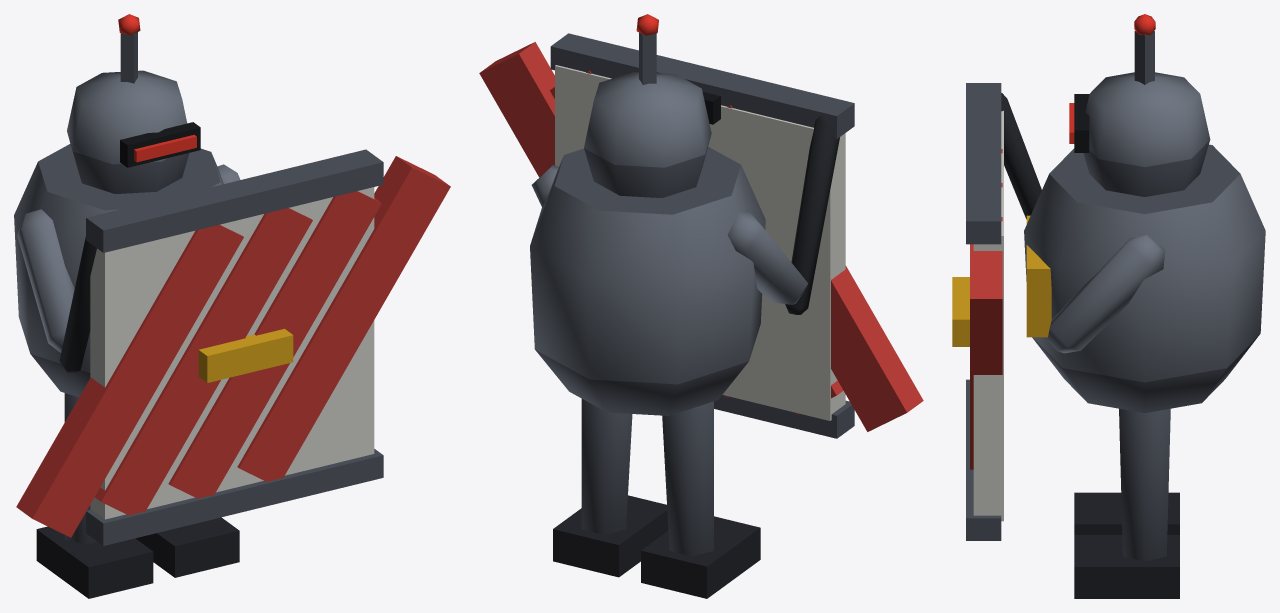
The model's file is e_maschinen_schildbot.glb.
The picture shows the model from 3 angles, left to right: view 1: azimuth 30°, elevation 25°; view 2: azimuth 150°, elevation 25°; view 3: azimuth 270°, elevation 25°; orthographic projection. The views are drawn at different scales.
Visible parts, largest first — view 1: body; view 2: body; view 3: body.
Part boxes in pixels (x1,y1,x2,y2): body: [14, 14, 450, 598]; body: [479, 14, 923, 598]; body: [952, 14, 1265, 598].
Bounding box in the file's own units: 1.94 × 2.4 × 1.24.
